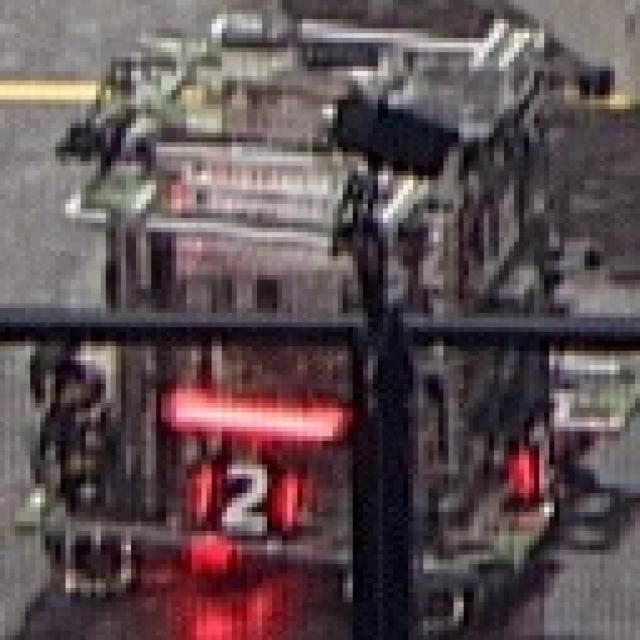R2: (174, 448, 300, 543), (494, 408, 569, 502)
